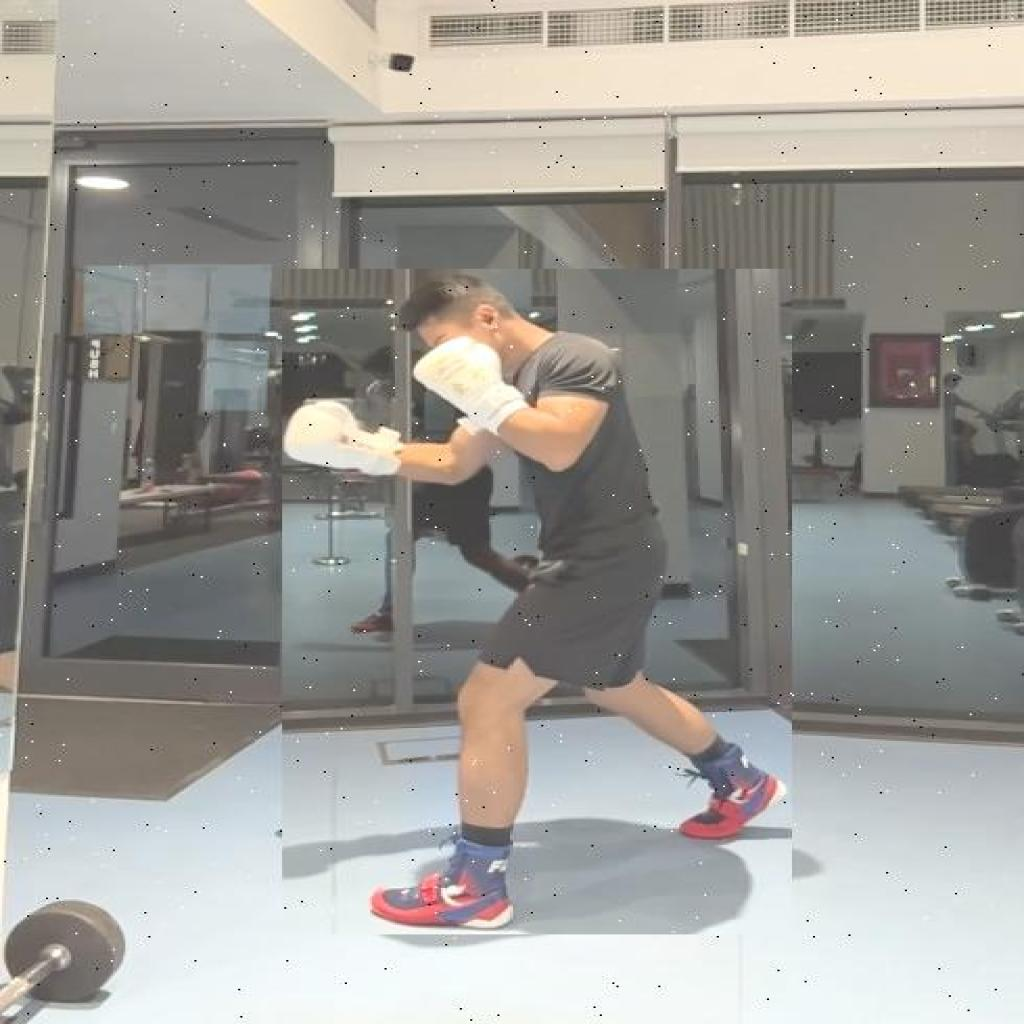uppercut: (282, 268, 792, 934)
